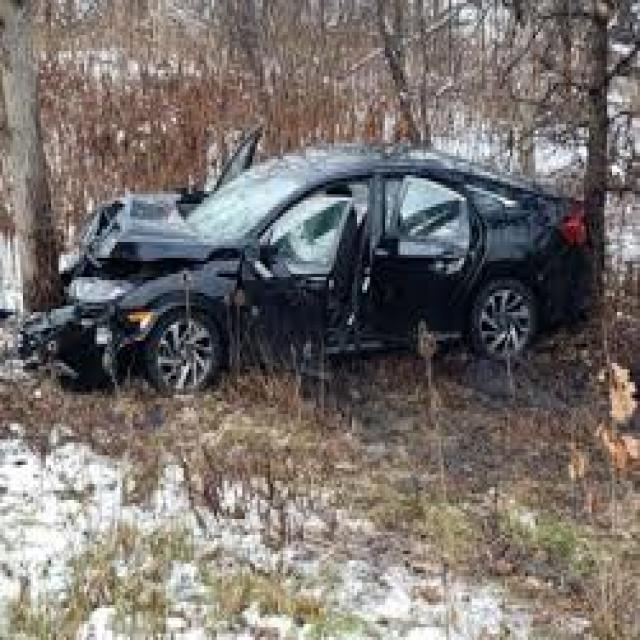accident: (20, 117, 595, 426)
